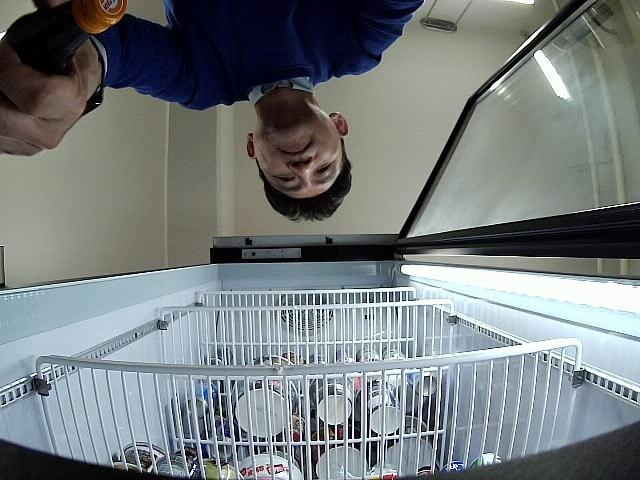00_hand: (2, 33, 104, 154)
17_vita500: (5, 4, 126, 75)
